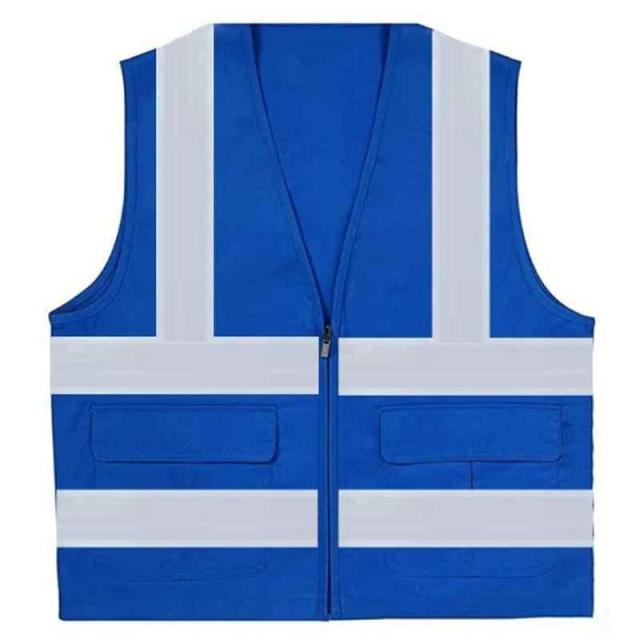safety_helmet: (44, 25, 613, 624)
